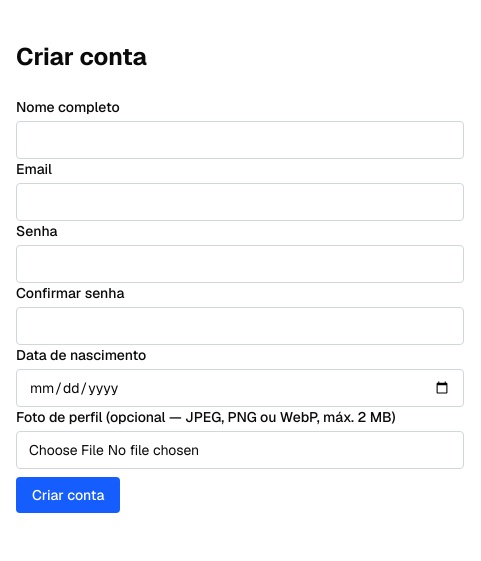
Test case: UT-10: RegisterPage — acessibilidade WCAG 2.1 AA e campos do formulario › (d) mensagem de erro de API acessivel via role=alert e aria-live quando exibida
Note: Preenche o formulario com dados validos para passar a validacao Zod e chegar ao fetch
Type "Joao Silva" into the field labelled "Nome completo" at (240, 140), box top-left (16, 121), bottom-right (464, 159)
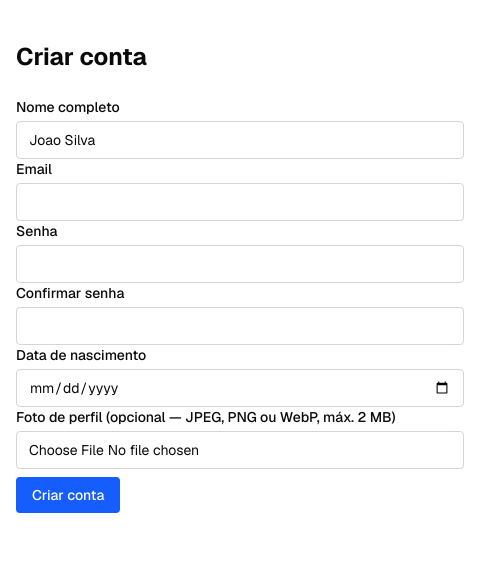
Type "joao@example.com" into the field labelled "Email" at (240, 202), box top-left (16, 183), bottom-right (464, 221)
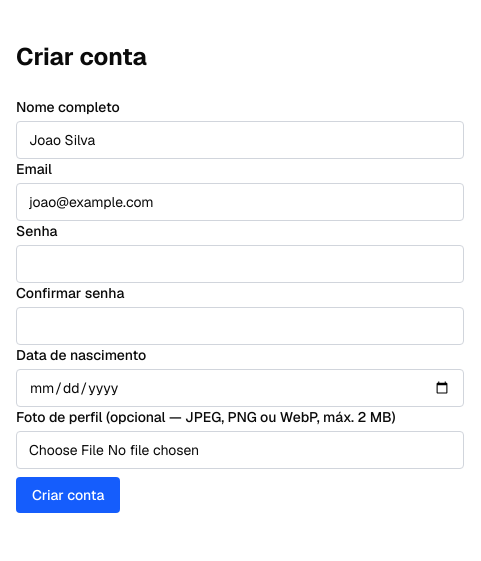
Type "Senha@1234" into the password field labelled "Senha" at (240, 264), box top-left (16, 245), bottom-right (464, 283)
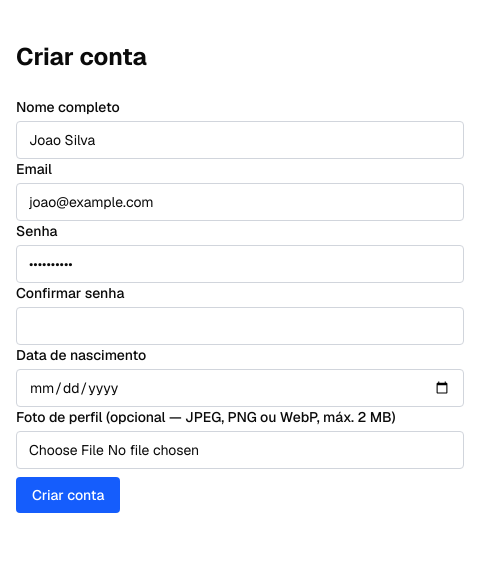
Type "Senha@1234" into the password field labelled "Confirmar senha" at (240, 326), box top-left (16, 307), bottom-right (464, 345)
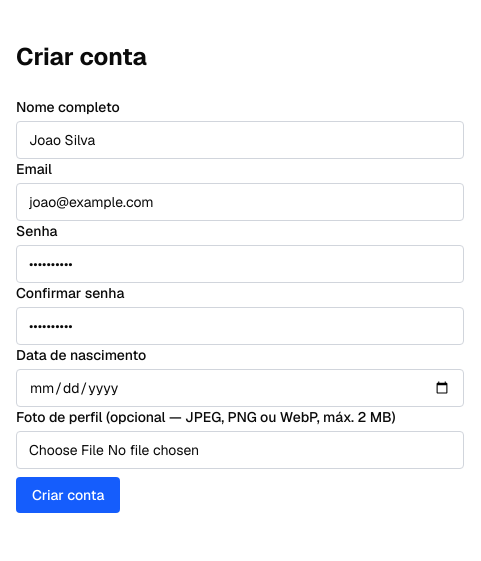
Type "1990-06-15" into the date field labelled "Data de nascimento" at (240, 388), box top-left (16, 369), bottom-right (464, 407)
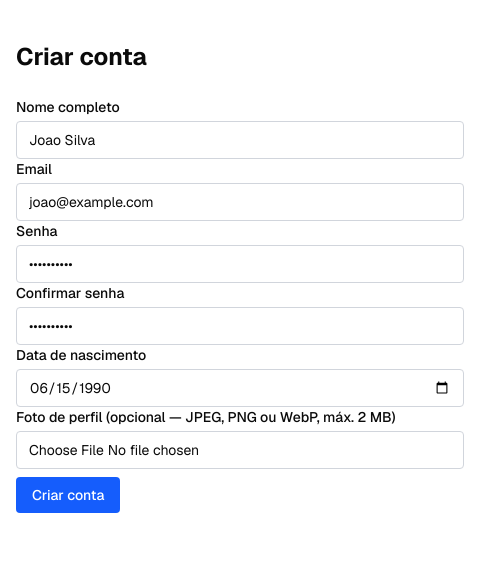
Note: Submete o formulario
Click the button "Criar conta" at (68, 495), box top-left (16, 477), bottom-right (120, 513)
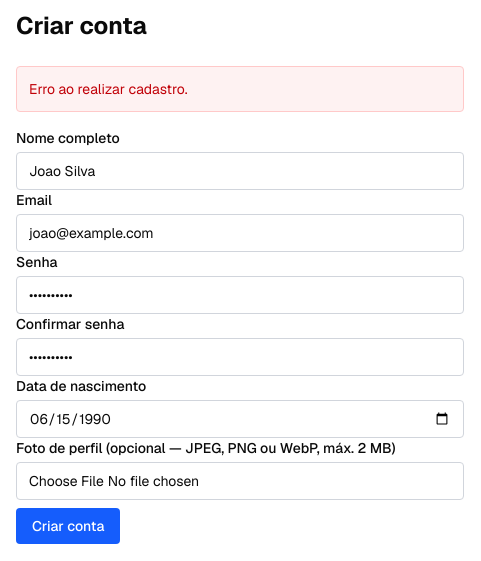
expect the message "Erro ao realizar cadastro." is shown: met, box top-left (16, 66), bottom-right (464, 112)
